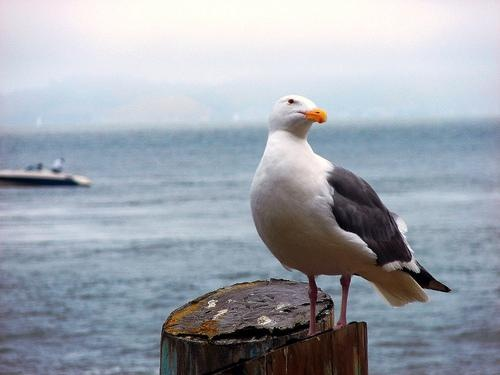bird: (248, 95, 453, 340)
